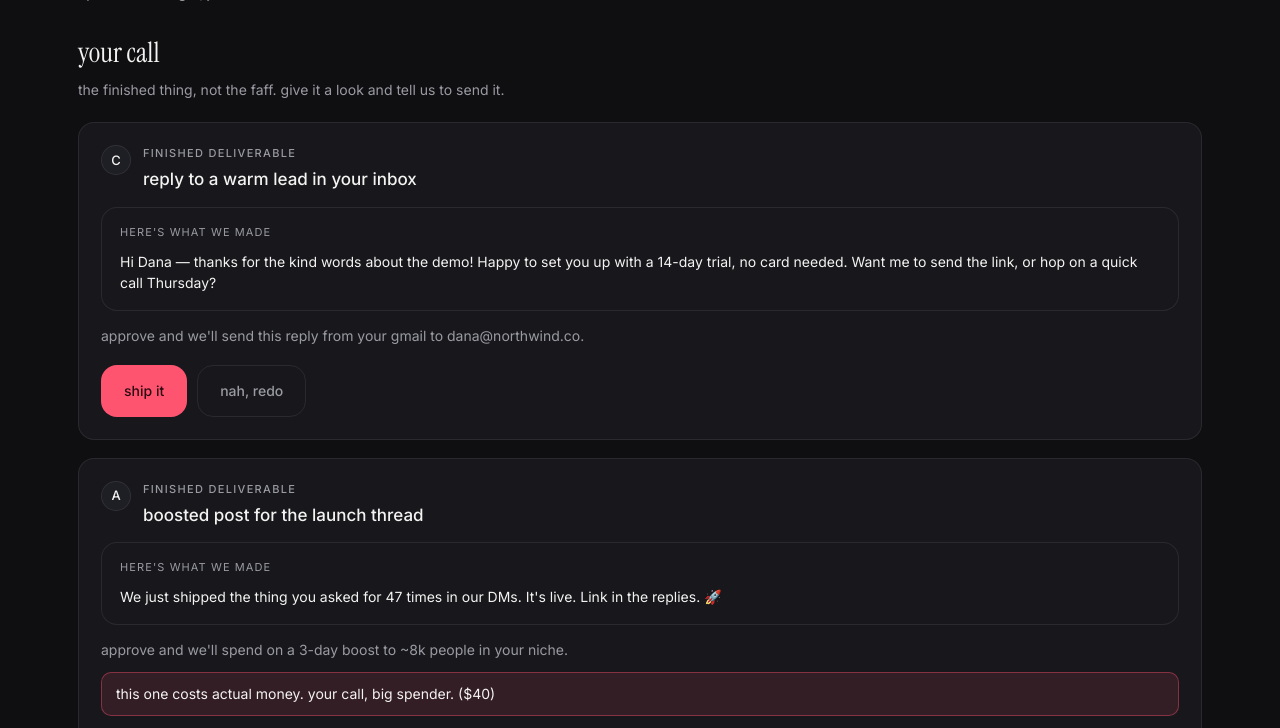
Scenario: EverydayShell — approval queue is a ship decision (#572/#574/#632) › records redo as a revision request with reviewer note (#1182)
(page scrolled)
Click the button "nah, redo" below "reply to a warm lead in your inbox" at {"x": 252, "y": 391}, box [197, 365, 306, 416]
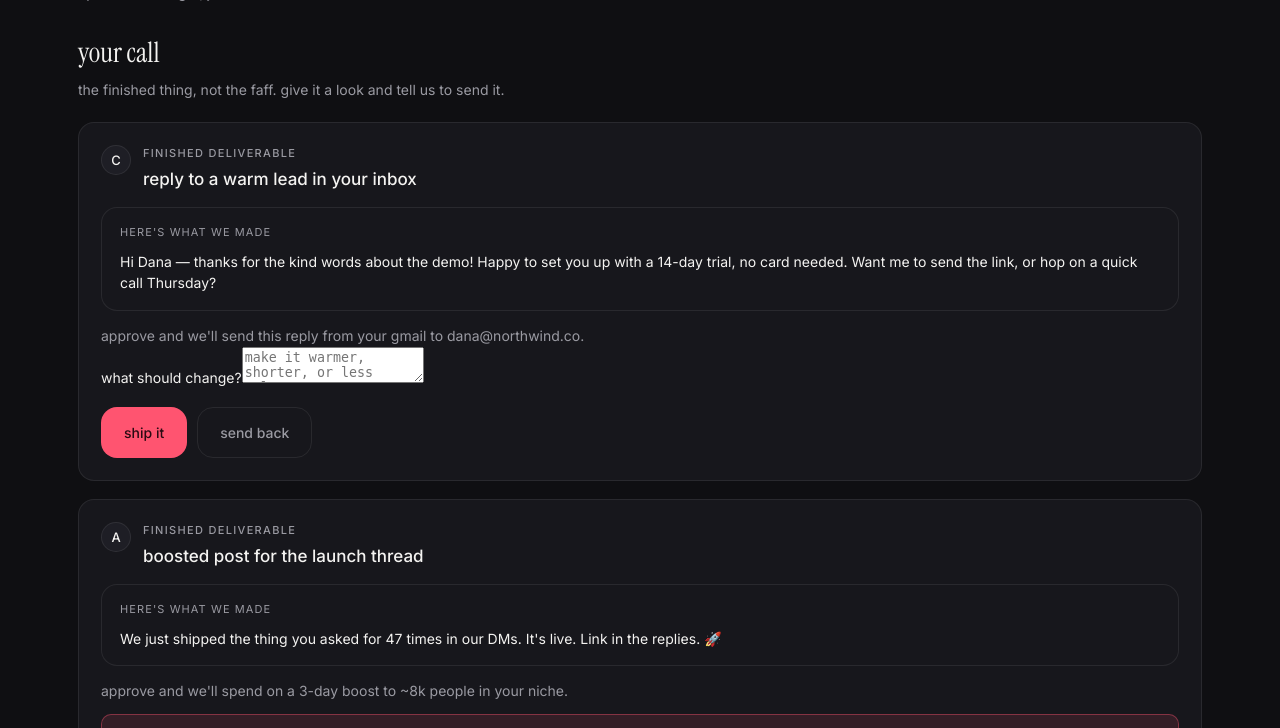
Type "make this warmer" into the text box labelled "what should change?" at {"x": 333, "y": 365}, box [242, 347, 424, 383]
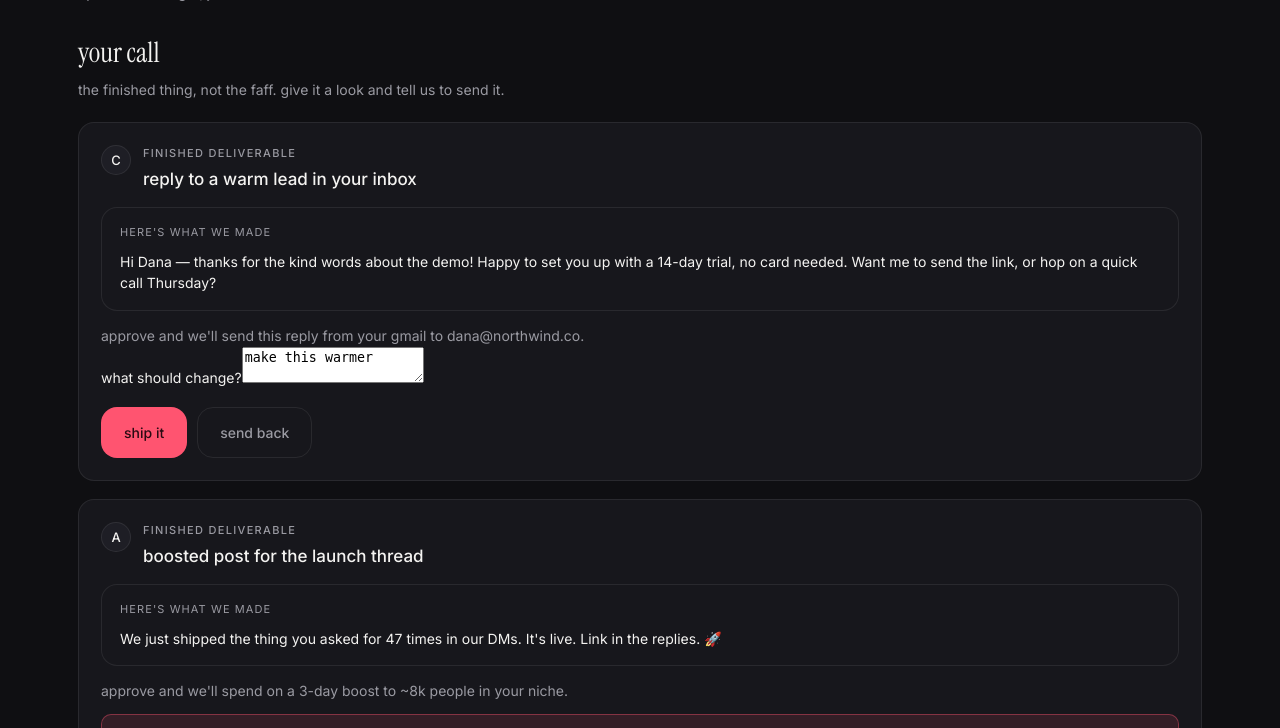
Click the button "send back" at {"x": 255, "y": 432}, box [197, 406, 312, 458]
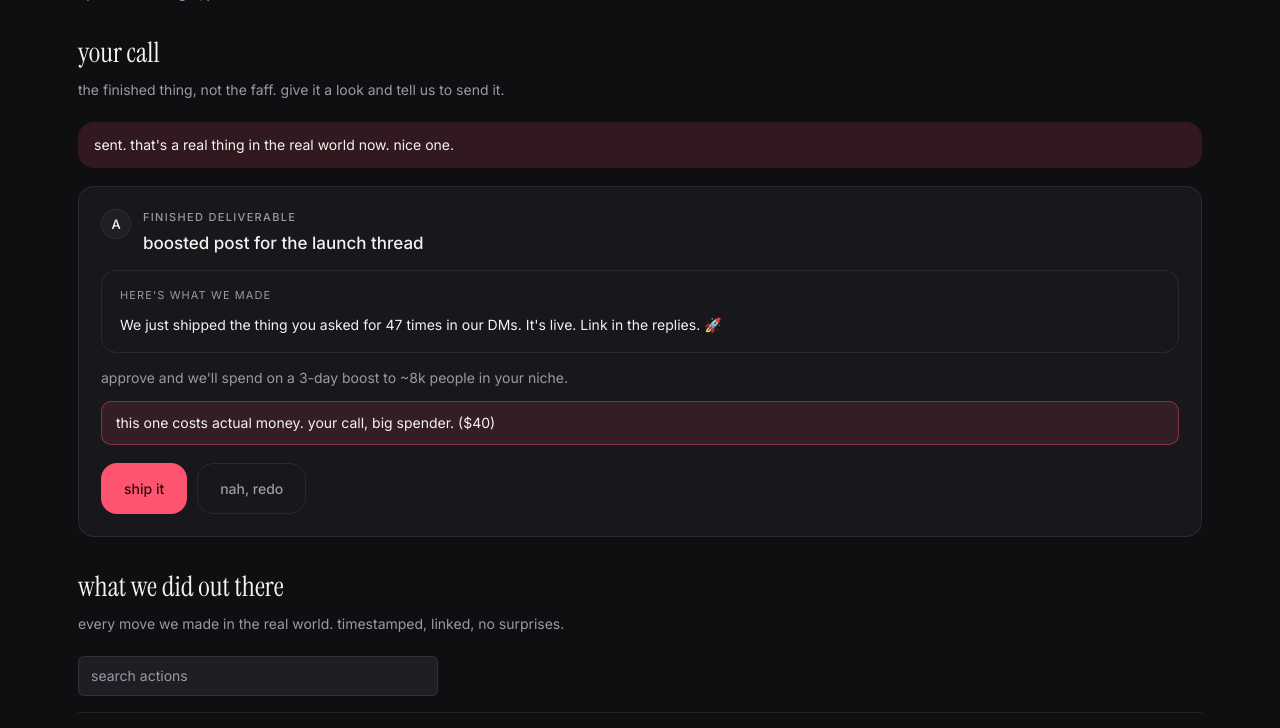
Expected: the text "sent. that's a real thing in the real world now. nice one." is shown, [78, 122, 1202, 168]
